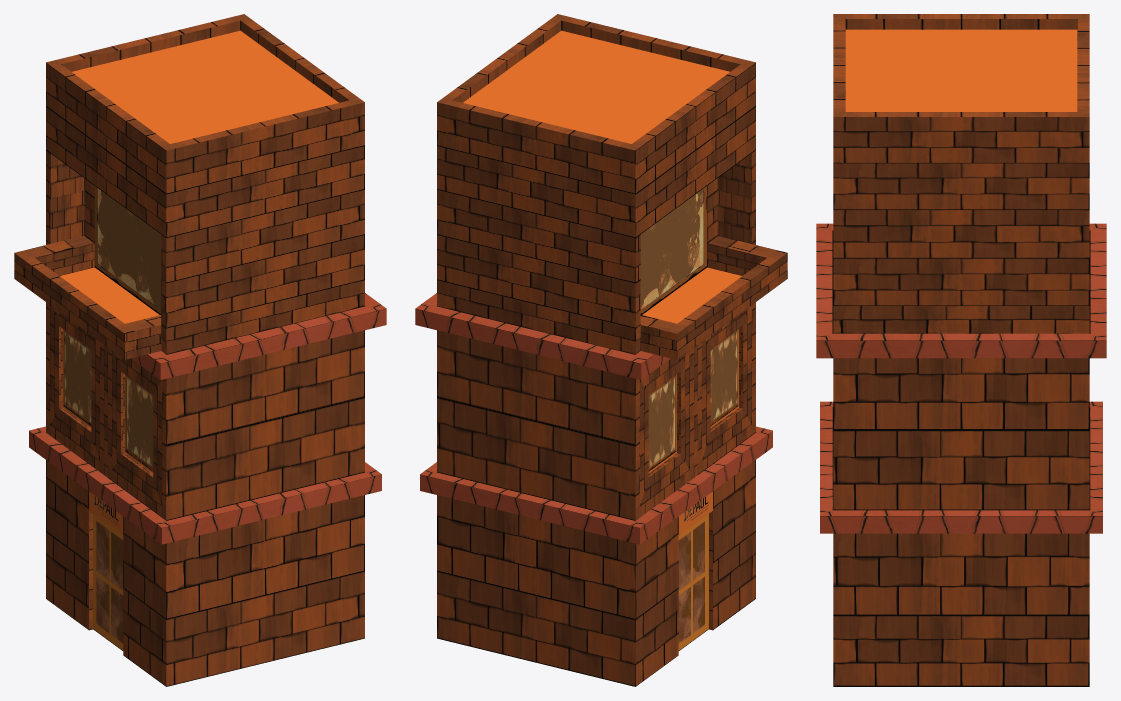
File: Depaul_Building_2.fbx
3 views of the same model, side by side, from view 1: azimuth 30°, elevation 25°; view 2: azimuth 150°, elevation 25°; view 3: azimuth 270°, elevation 25° (orthographic). The views are drawn at different scales.
Parts seen in each view (by area): view 1: House4; view 2: House4; view 3: House4.
Boxes of the visible parts, x1,y1,x2,y2 form: House4: (14,14,386,686); House4: (415,14,787,686); House4: (816,14,1106,686).
Bounding box in the file's own units: 179 × 369 × 170.
